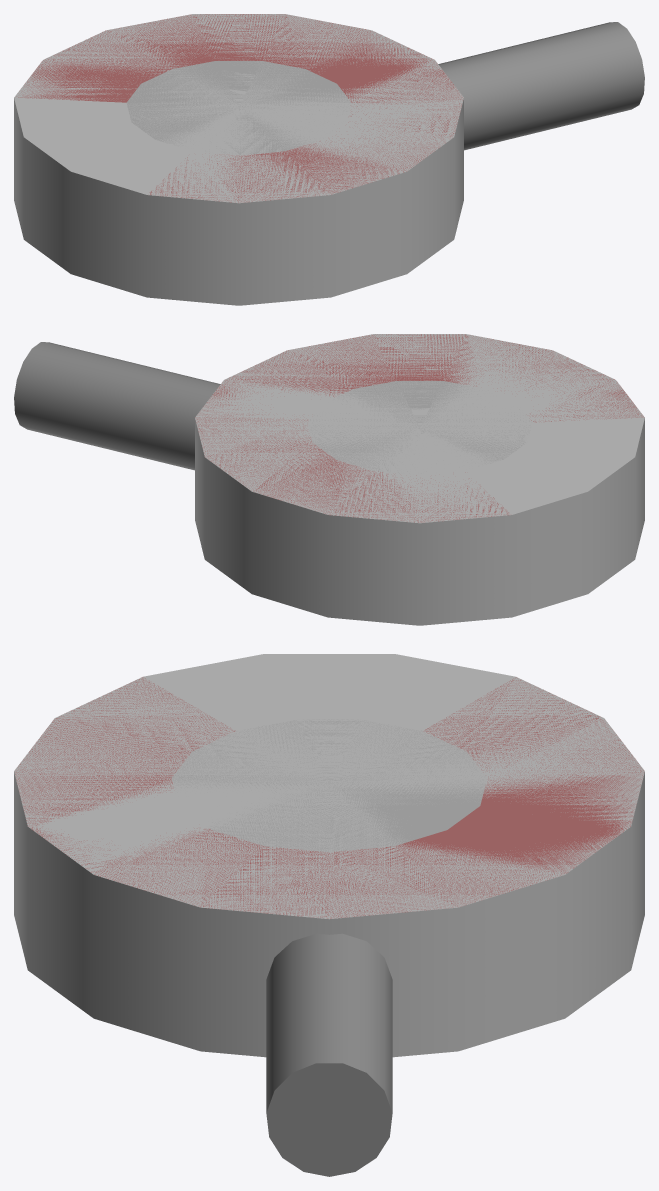
Rendered from MagicHand.fbx.
3 views of the same model, one above another, from view 1: azimuth 30°, elevation 25°; view 2: azimuth 150°, elevation 25°; view 3: azimuth 270°, elevation 25° (orthographic). The views are drawn at different scales.
Parts seen in each view (by area): view 1: A, Hand, Arm, B; view 2: A, Hand, Arm, B; view 3: A, Hand, Arm, B.
Part boxes in pixels (<box>): A: <box>14,14,463,305</box>; Hand: <box>16,14,463,202</box>; Arm: <box>438,22,644,150</box>; B: <box>126,61,350,155</box>; A: <box>195,334,644,625</box>; Hand: <box>195,334,644,522</box>; Arm: <box>14,342,220,470</box>; B: <box>309,381,531,473</box>; A: <box>14,654,644,1057</box>; Hand: <box>15,677,644,918</box>; Arm: <box>266,933,392,1176</box>; B: <box>172,719,486,851</box>.
Size of the model in its own units: 2.94 by 0.5 by 1.99.
